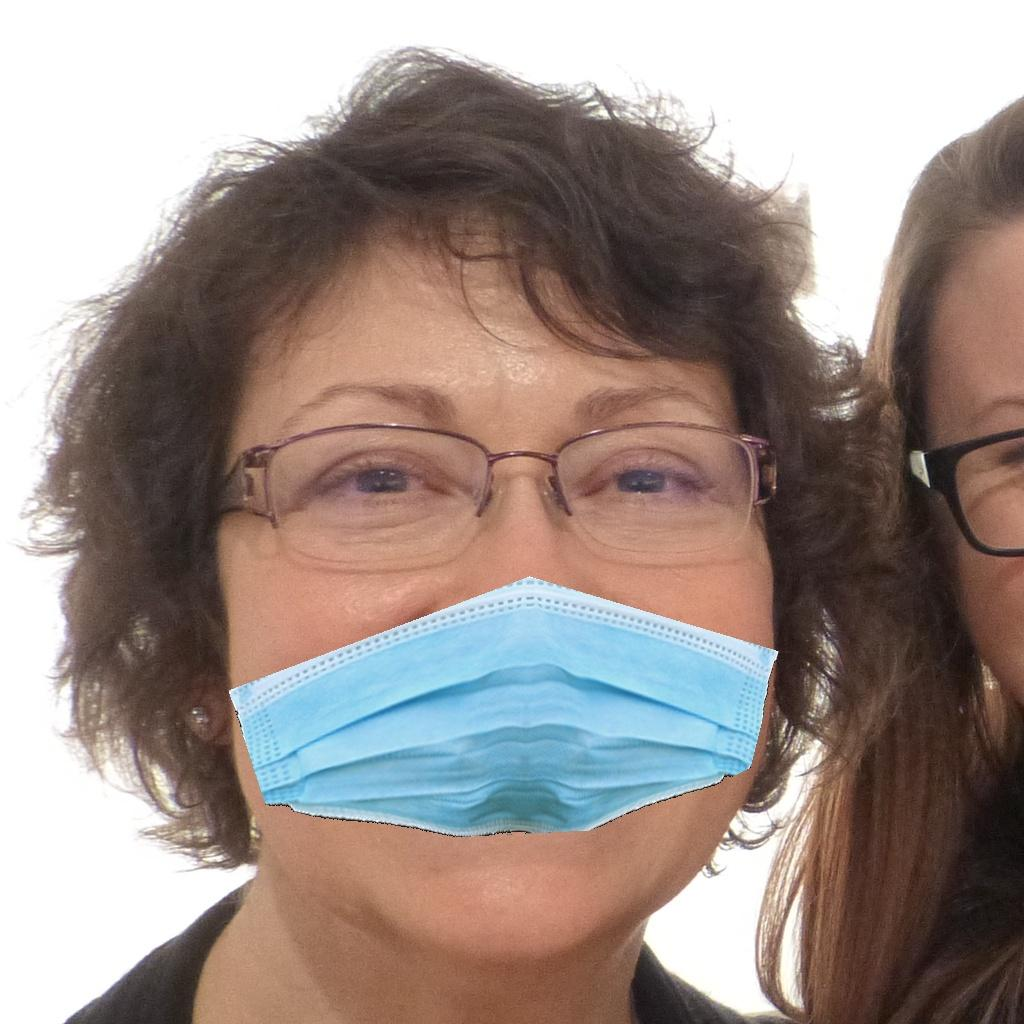Com Máscara: (218, 250, 780, 929)
